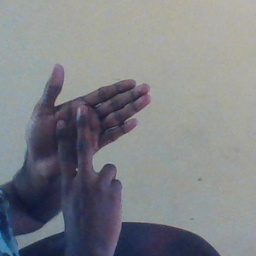N: (22, 62, 155, 216)
